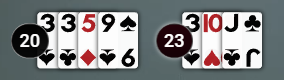10: (200, 11, 223, 36)
3: (35, 11, 58, 36), (180, 11, 202, 34), (57, 11, 77, 35)
5: (77, 11, 98, 35)
9: (97, 11, 118, 36)
j: (222, 11, 243, 36)
